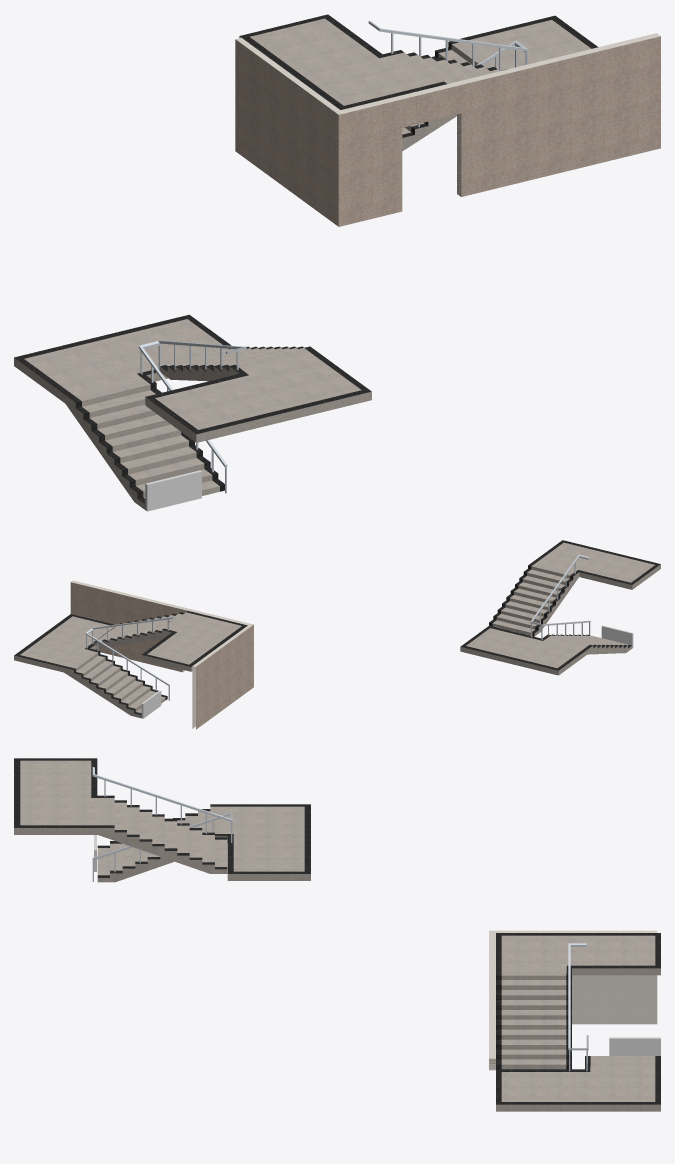
The model's file is stairs 2.glb.
3 views of the same model, one above another, from view 1: azimuth 30°, elevation 25°; view 2: azimuth 150°, elevation 25°; view 3: azimuth 270°, elevation 25° (orthographic). The views are drawn at different scales.
Visible parts, largest first — view 1: 电梯间.004, 立方体.024, 立方体.026, 立方体.028, 立方体.025, 立方体.029; view 2: 电梯间.004, 立方体.026, 立方体.025, 立方体.028, 立方体.024, 立方体.029, 立方体.045; view 3: 立方体.028, 立方体.026, 立方体.024, 立方体.025, 电梯间.004, 立方体.045.
Part boxes in pixels (x1=…): 电梯间.004: x1=235, y1=33, x2=660, y2=226; 立方体.024: x1=14, y1=314, x2=231, y2=509; 立方体.026: x1=145, y1=346, x2=371, y2=442; 立方体.028: x1=239, y1=14, x2=506, y2=109; 立方体.025: x1=402, y1=15, x2=598, y2=151; 立方体.029: x1=145, y1=470, x2=201, y2=511; 电梯间.004: x1=70, y1=580, x2=253, y2=729; 立方体.026: x1=489, y1=540, x2=660, y2=636; 立方体.025: x1=14, y1=614, x2=167, y2=718; 立方体.028: x1=94, y1=611, x2=247, y2=671; 立方体.024: x1=460, y1=626, x2=632, y2=675; 立方体.029: x1=601, y1=625, x2=633, y2=648; 立方体.045: x1=141, y1=690, x2=161, y2=718; 立方体.028: x1=496, y1=933, x2=660, y2=1069; 立方体.026: x1=14, y1=758, x2=227, y2=873; 立方体.024: x1=97, y1=804, x2=310, y2=882; 立方体.025: x1=496, y1=1056, x2=660, y2=1111; 电梯间.004: x1=489, y1=930, x2=657, y2=1070; 立方体.045: x1=609, y1=1037, x2=660, y2=1055.
Bounding box in the file's own units: 7.06 × 1.26 × 6.42.
Materials: 5 (5 with a texture image).
